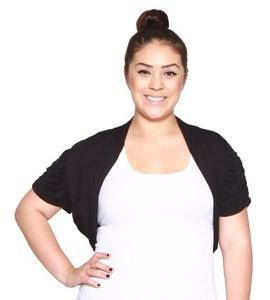C_cardigan sweater: (14, 115, 262, 258)
